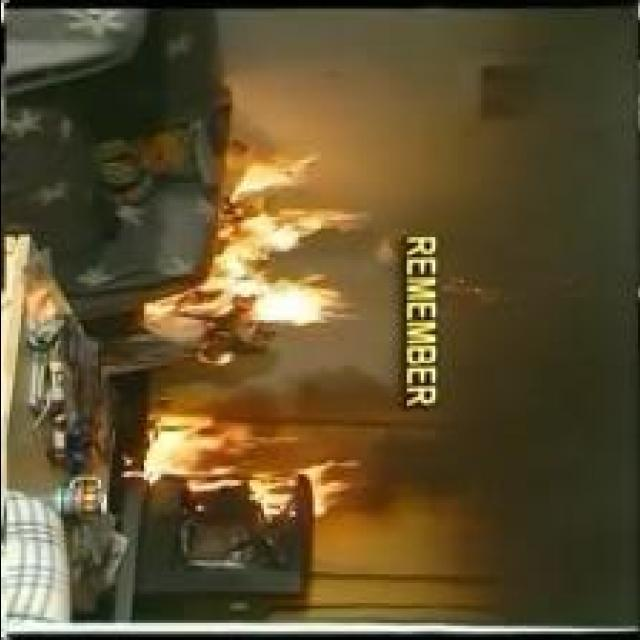Fire: (144, 157, 356, 366), (144, 414, 367, 517)
